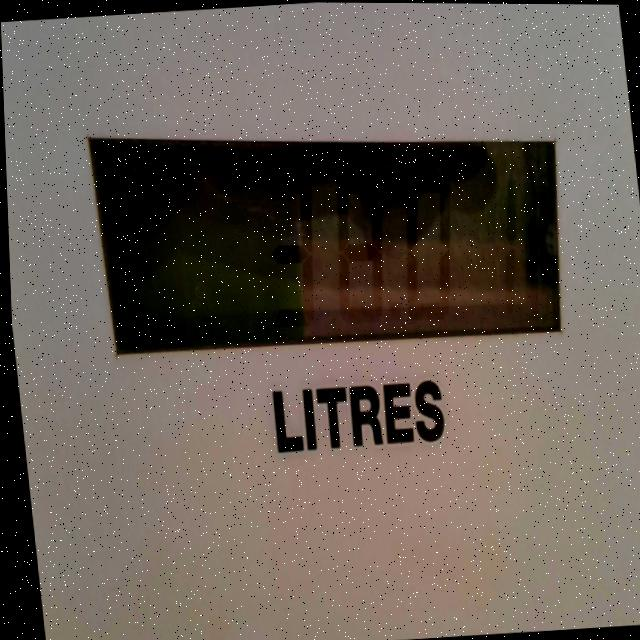.: (388, 302, 400, 322)
0: (391, 166, 456, 323)
1: (488, 170, 525, 306)
3: (263, 175, 317, 325)
8: (326, 172, 389, 321)
